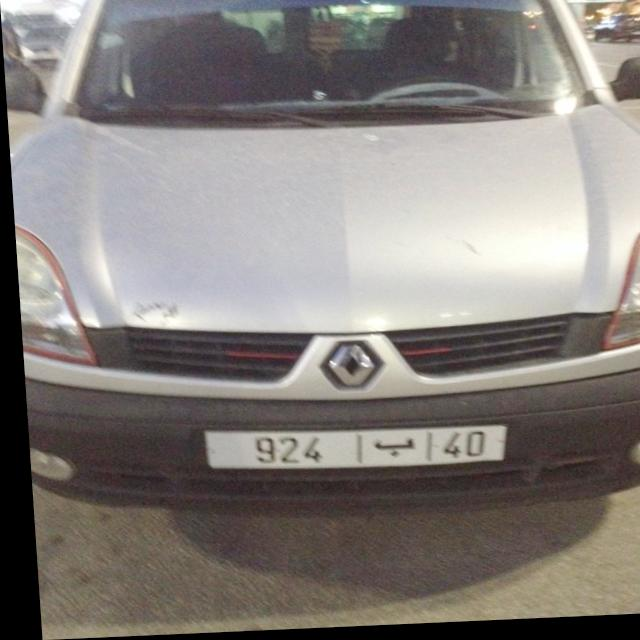License-Plate: (198, 431, 499, 472)
